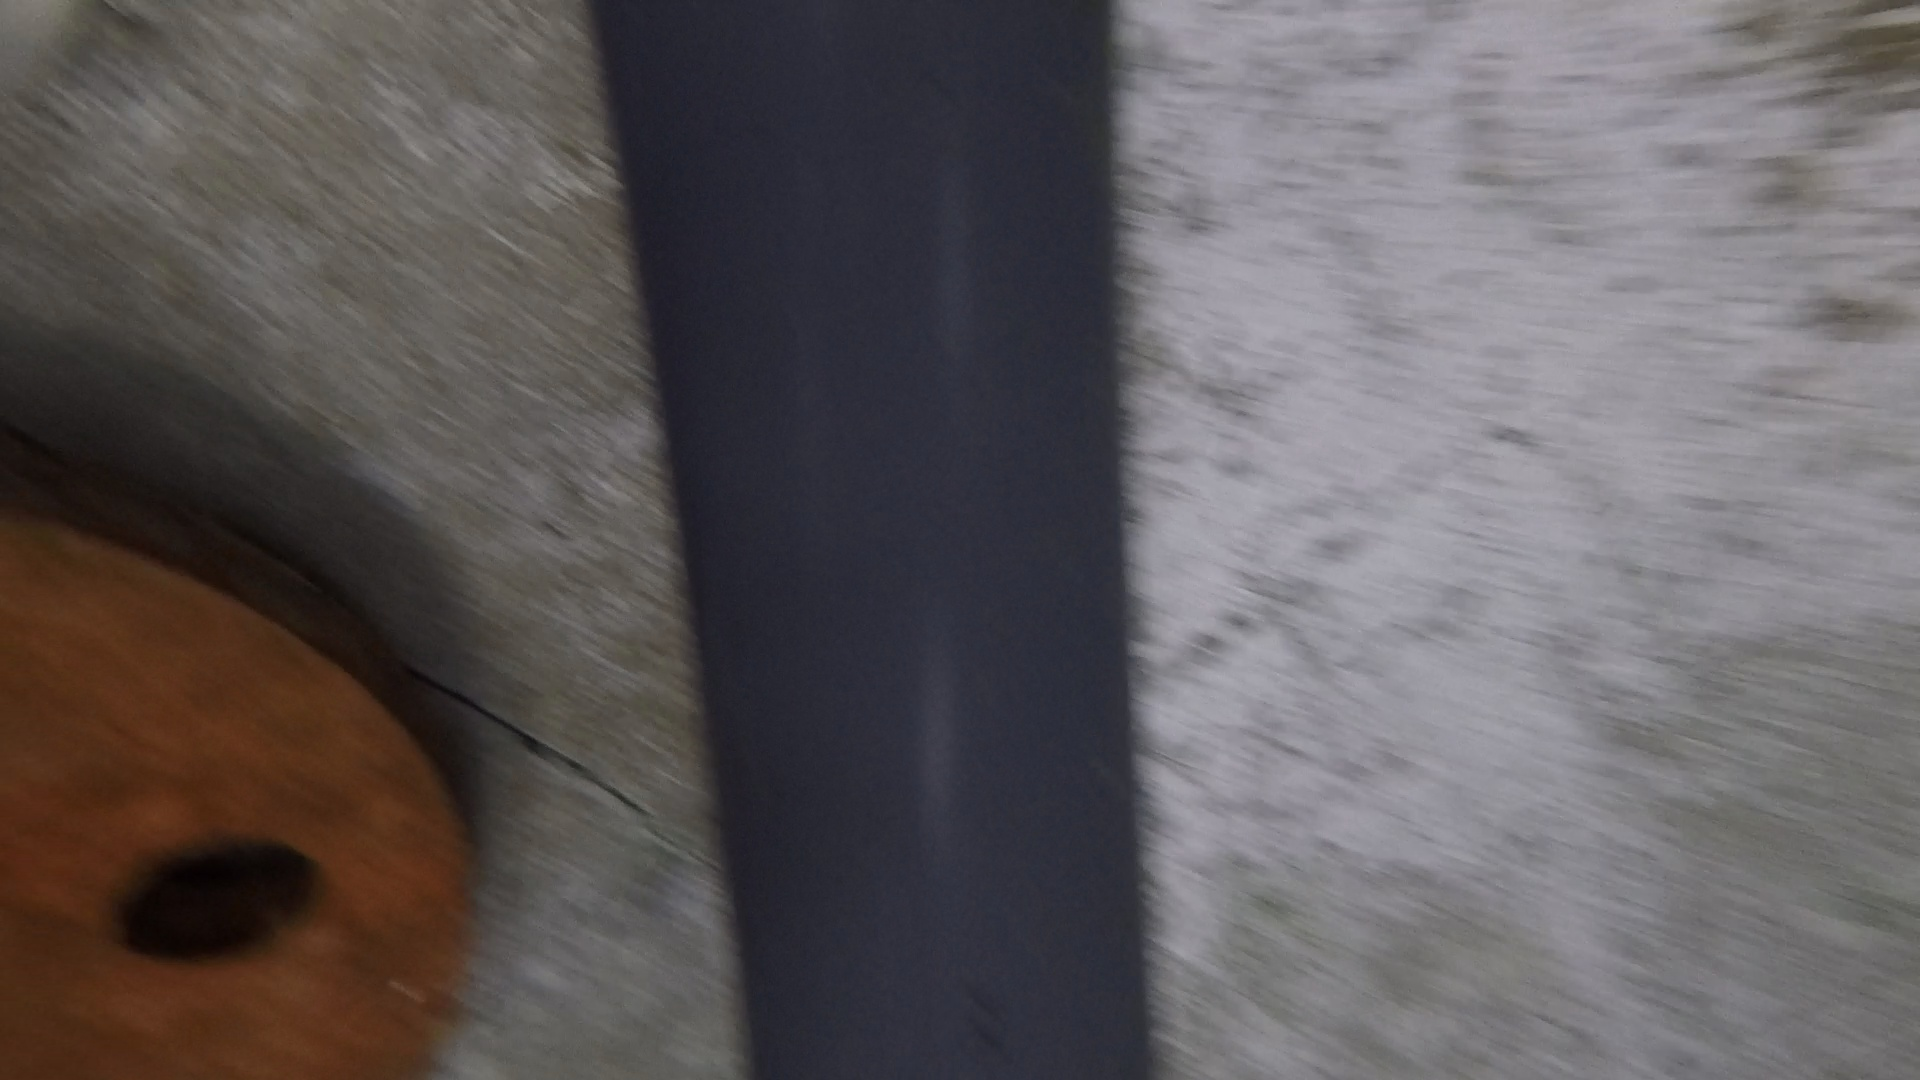flange: (1, 436, 473, 1080)
pipe: (582, 3, 1156, 1076)
